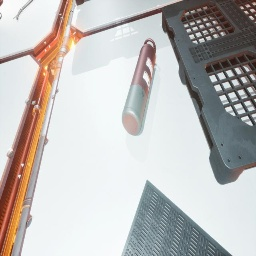FireExtinguisher ]: (0, 0, 3, 7), (0, 12, 2, 20)
NitrogenTank ,: (122, 38, 156, 135)
